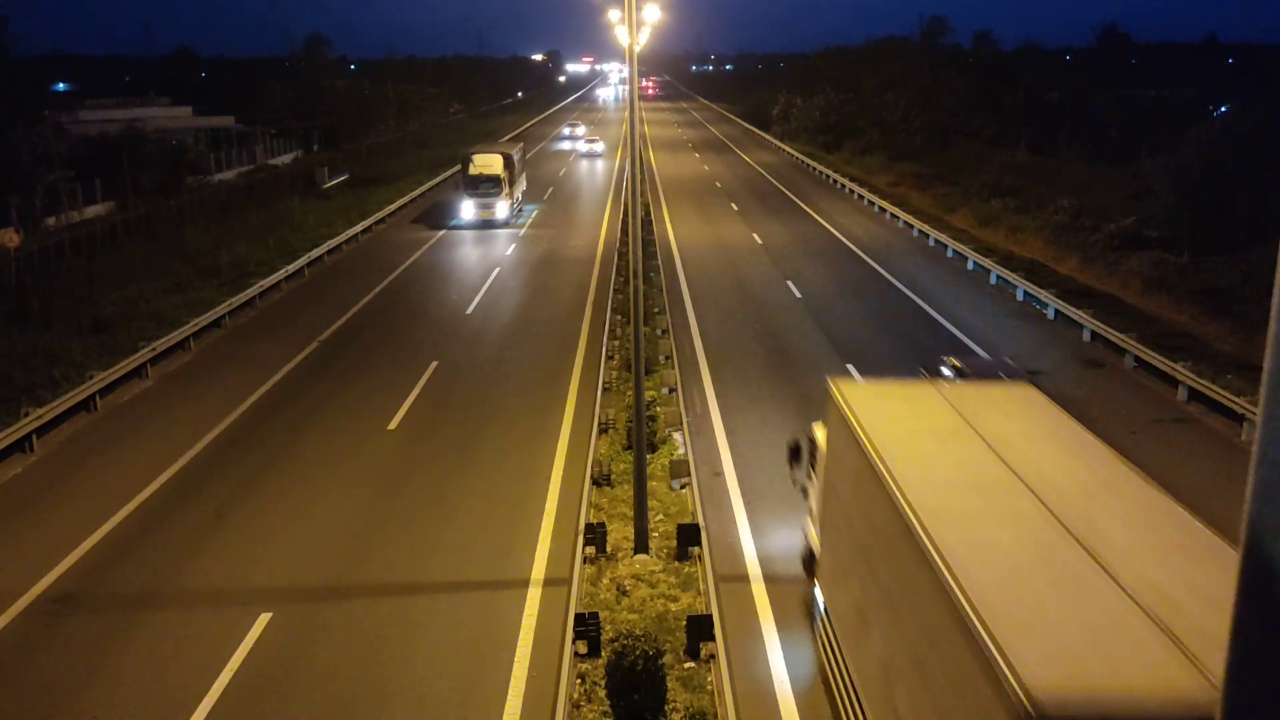truck: (460, 137, 528, 227)
